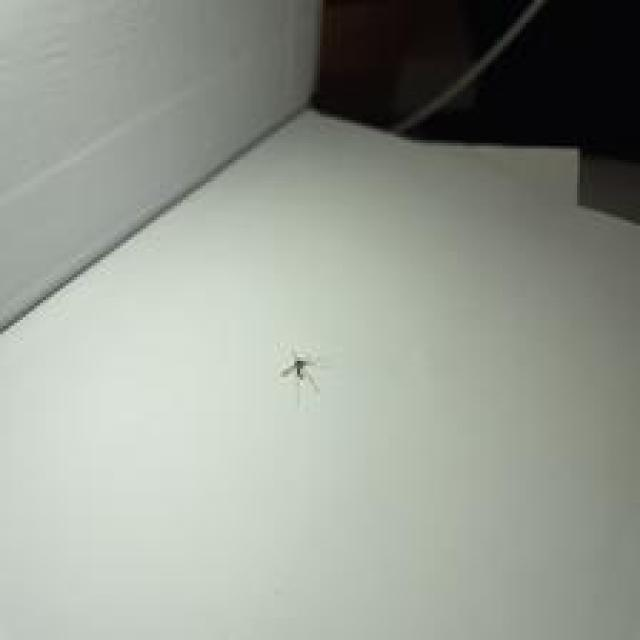Culex: (278, 348, 322, 392)
